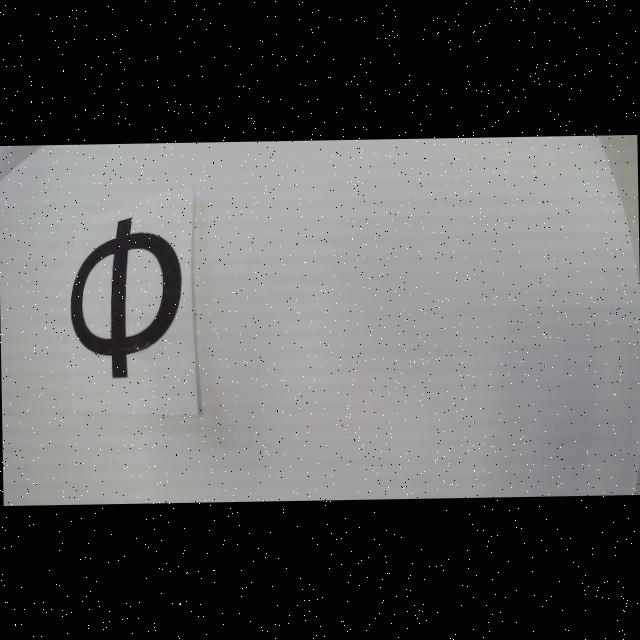PHI: (69, 216, 182, 378)
